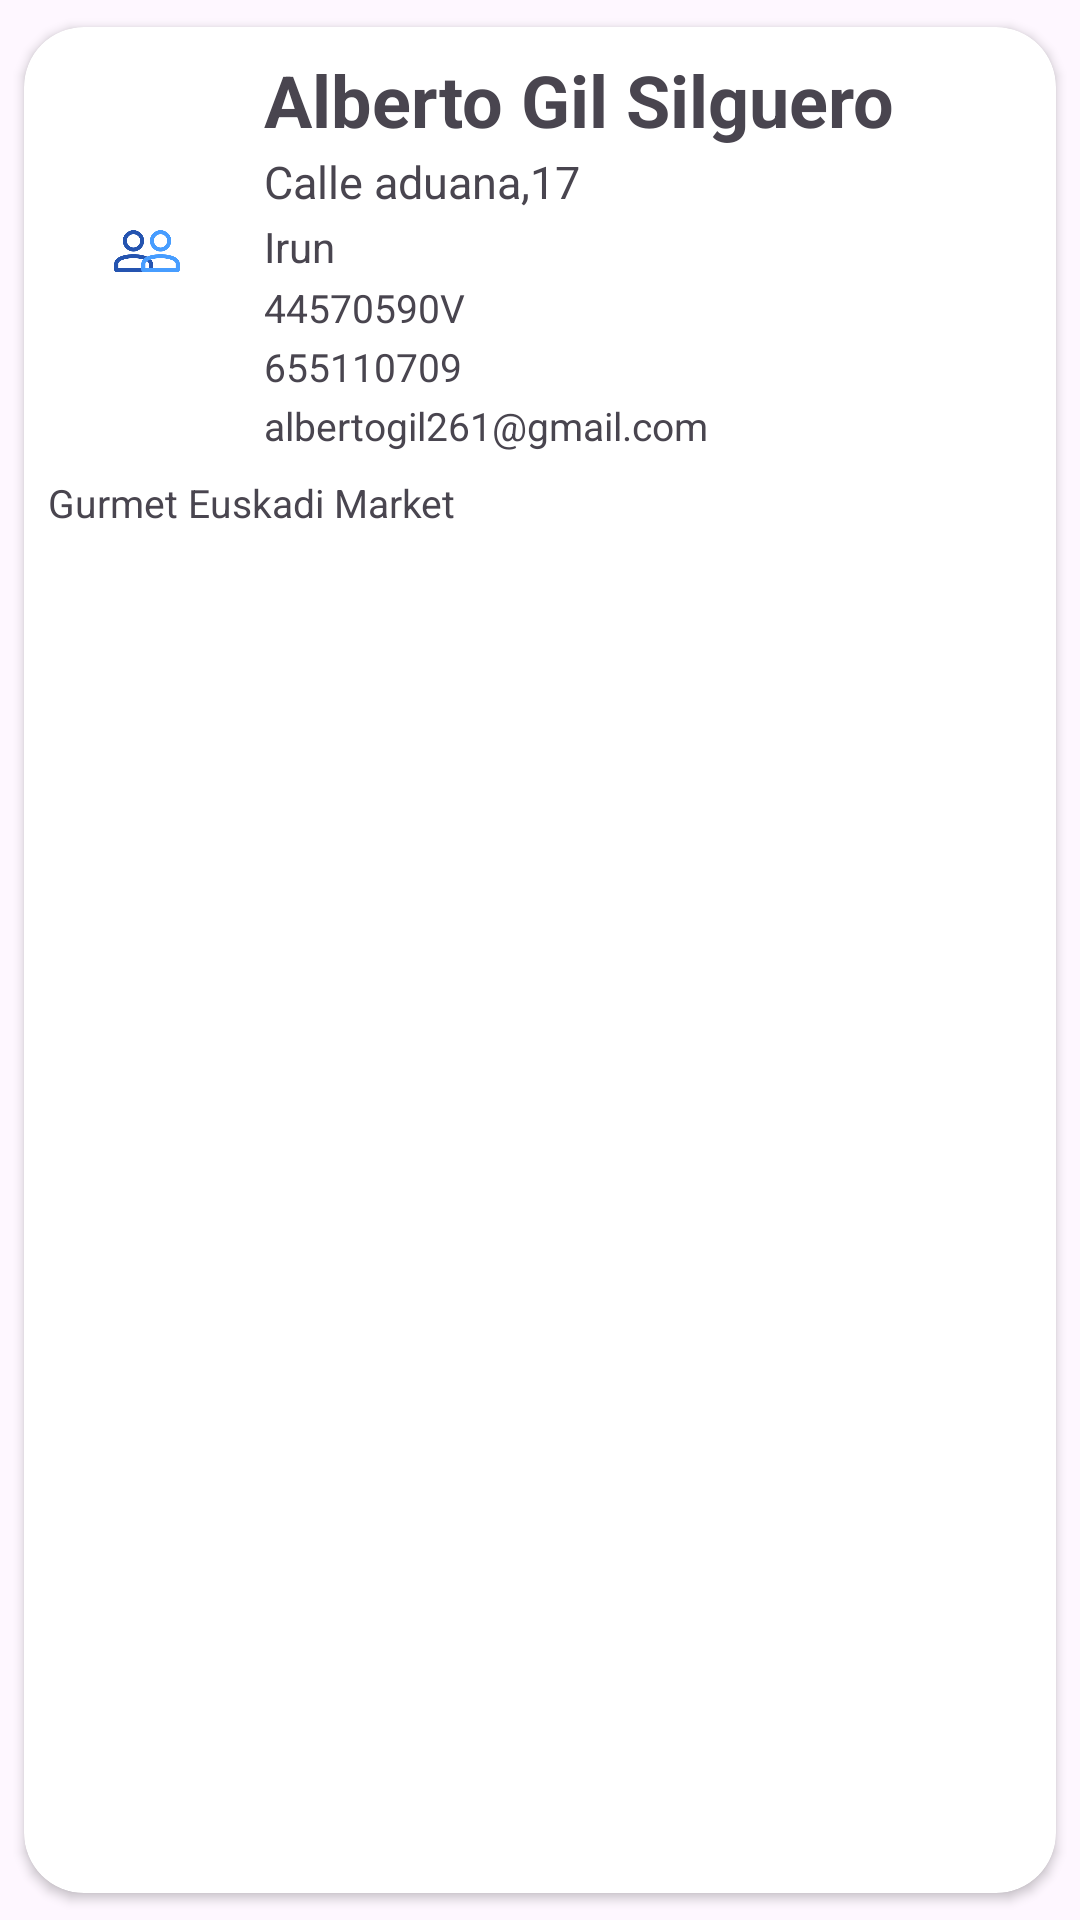

Icon click points for this 1080w x 1920h phone screenshot, format point (x, y):
partnerimage: point (147, 251)
